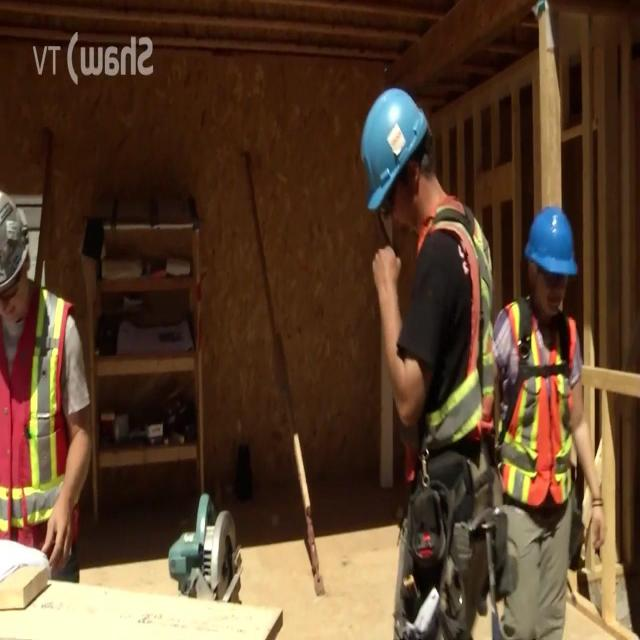Reflective-Jacket: (374, 188, 504, 620), (488, 298, 600, 554), (0, 285, 95, 570)
Safety-Helmet: (350, 75, 440, 218), (518, 194, 582, 290), (0, 178, 38, 303)
